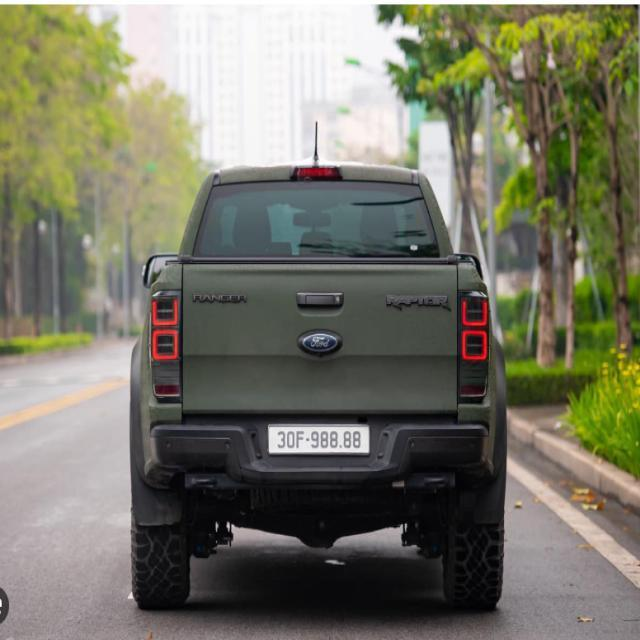car: (136, 160, 510, 624)
plate: (262, 420, 375, 461)
